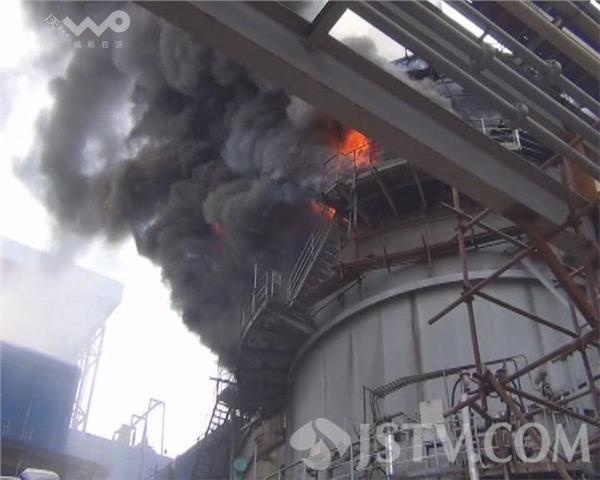fire: (337, 128, 373, 167), (311, 198, 339, 220)
